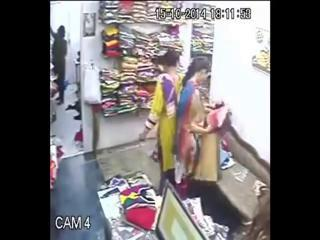shoplifting: (198, 108, 270, 239), (138, 49, 182, 195), (175, 56, 212, 184)
